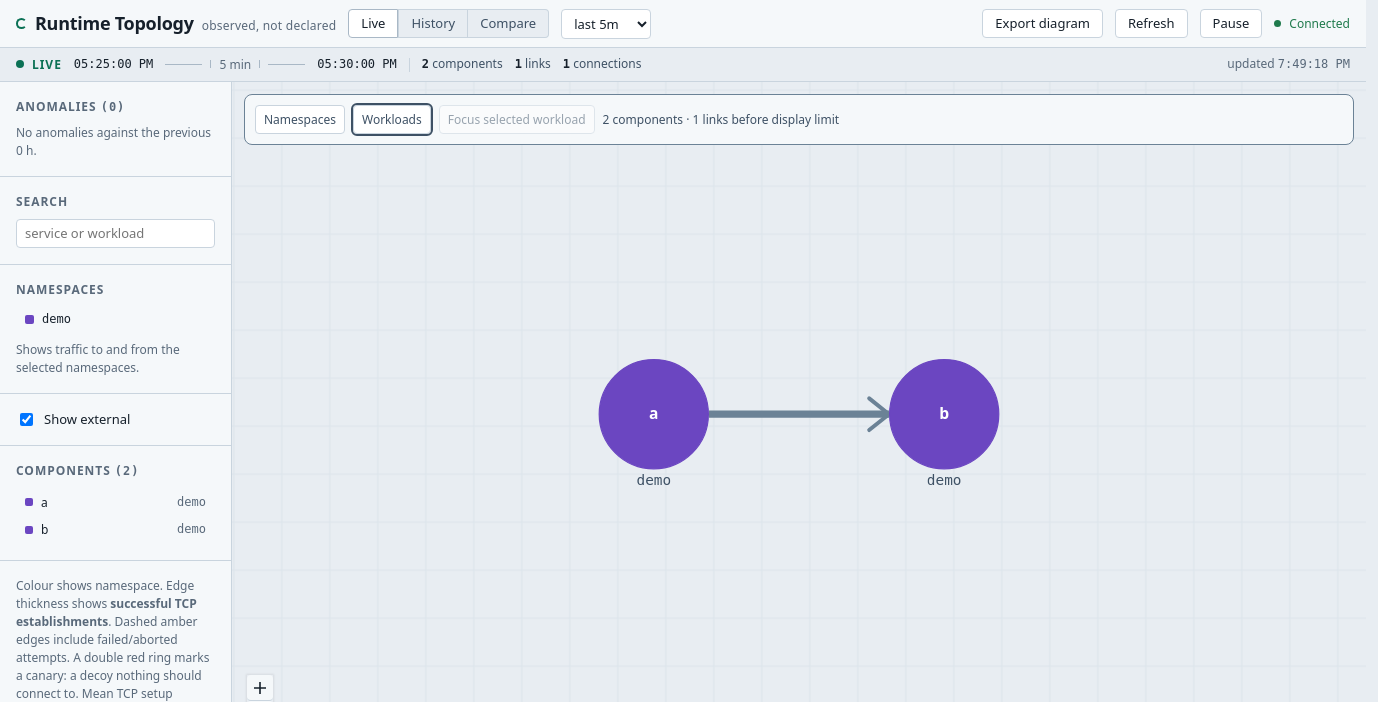
Scenario: a start in the future is refused in words, and the last good period stays on screen
Click the button "History".
click(433, 24)  # box [398,9,468,38]
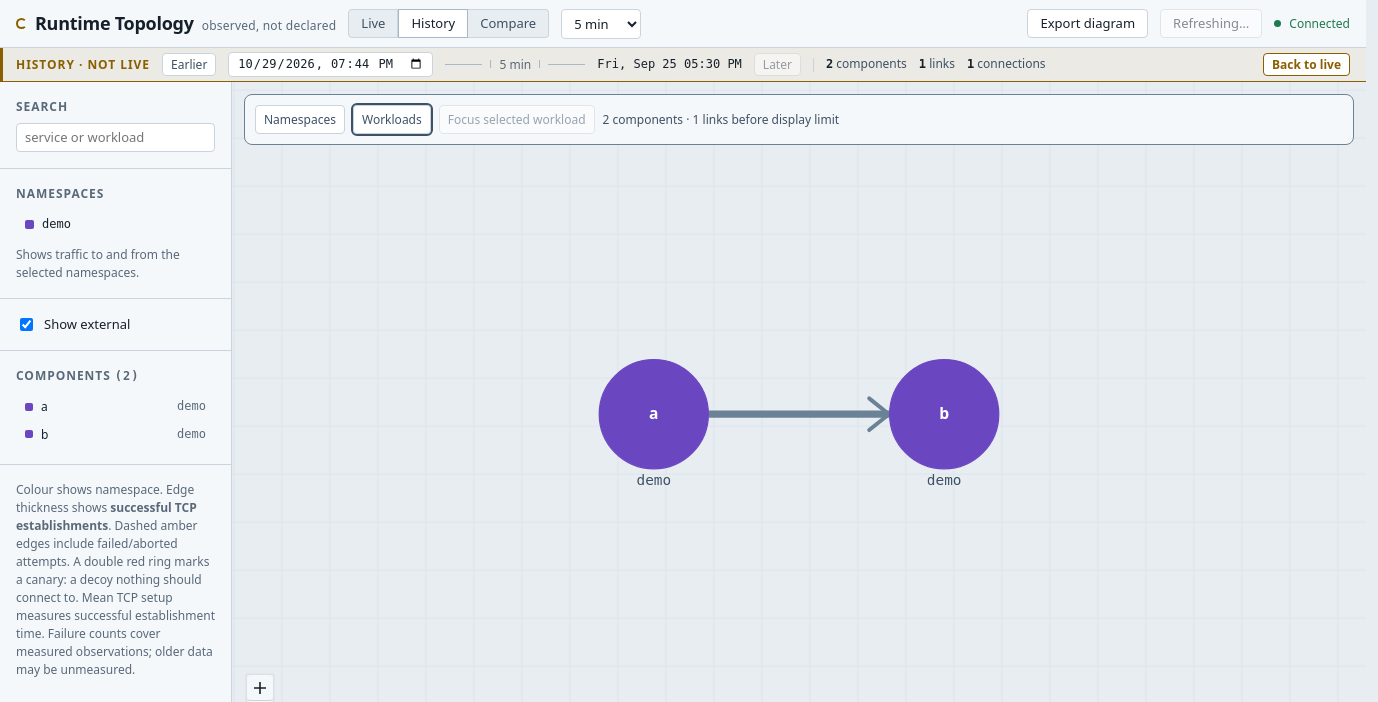
Replace the text in the field named "Start of the period" with "2099-01-01T00:00" at [331, 64], box [228,52,433,77]
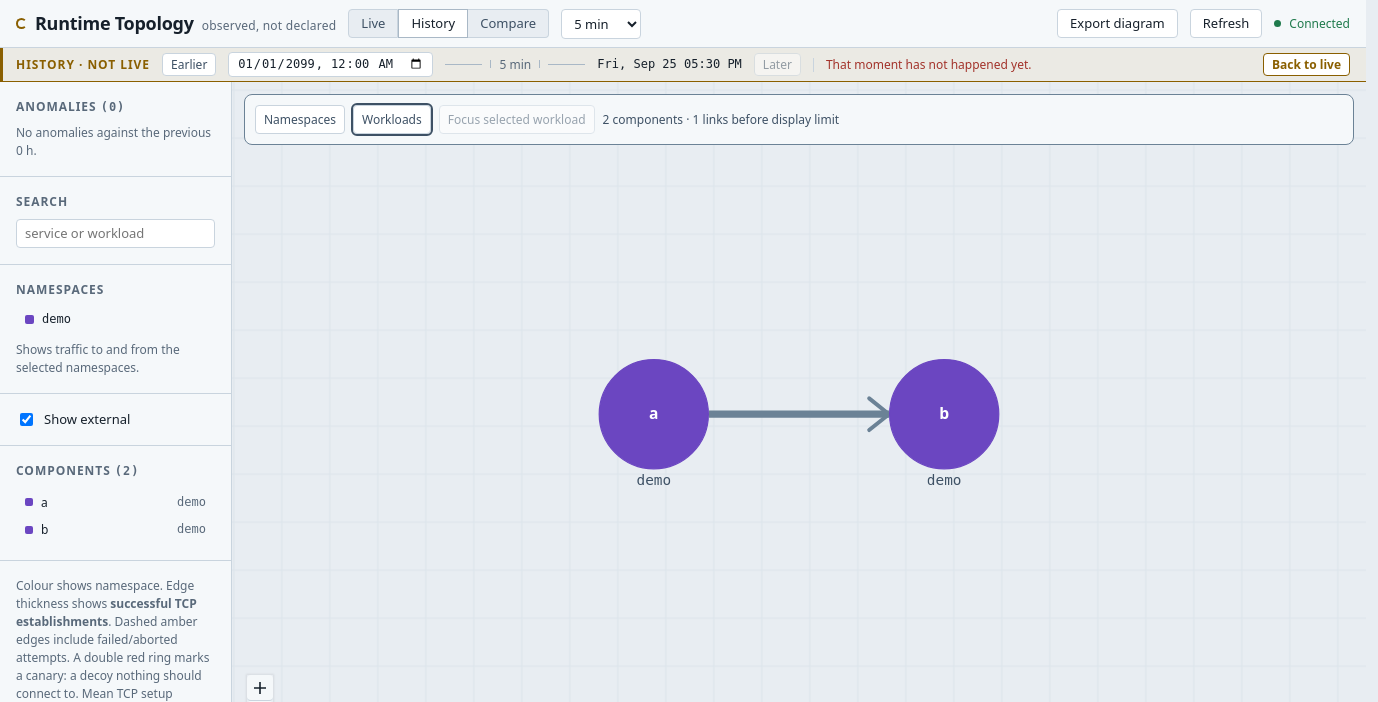
expect the message shows "not happened yet": met, box [826,56,1032,73]
